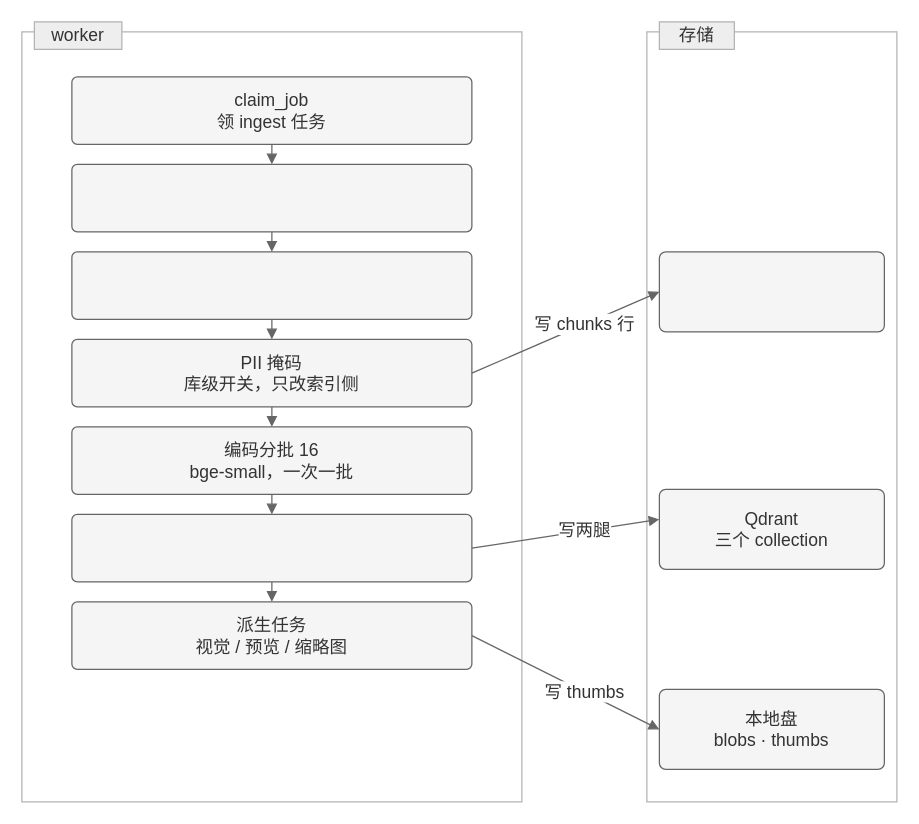
The diagram is 919 pixels wide and 824 high, and some of its shapes have lost their labels. Each missing label, with the centre of its shape:
Postgres chunks · jobs: the point at 771,291
写 Qdrant 两腿 dense + sparse: the point at 271,547
切分 六种策略，默认 recursive: the point at 271,285
解析 按 PARSERS 派发格式: the point at 271,197
